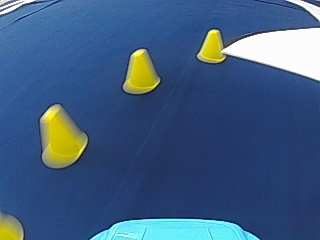cone: (38, 104, 87, 168), (122, 48, 160, 94), (197, 28, 226, 63)
